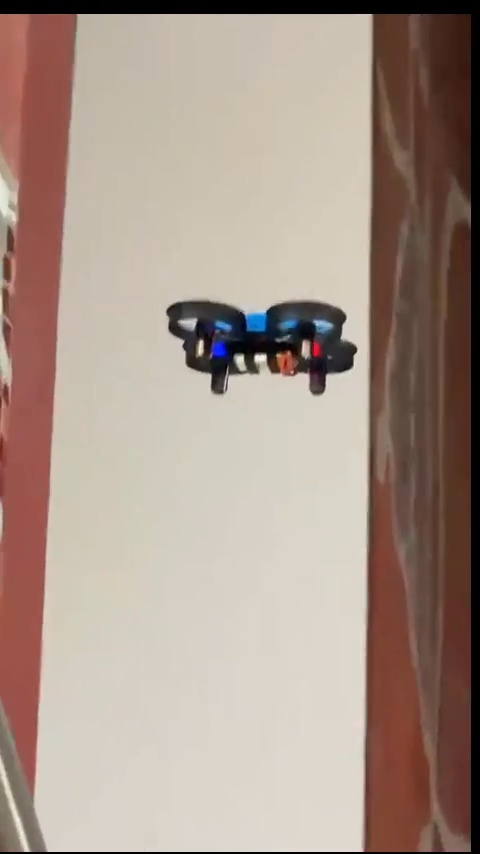drone: (172, 302, 361, 395)
